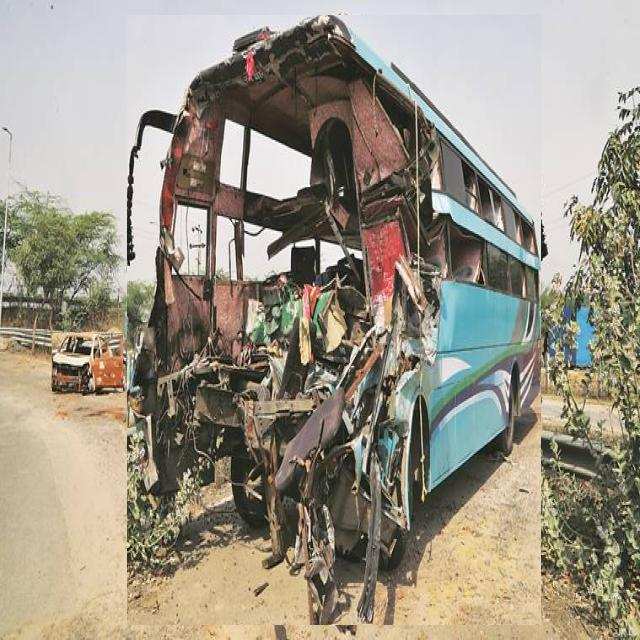accident: (127, 16, 540, 625), (52, 333, 123, 392)
